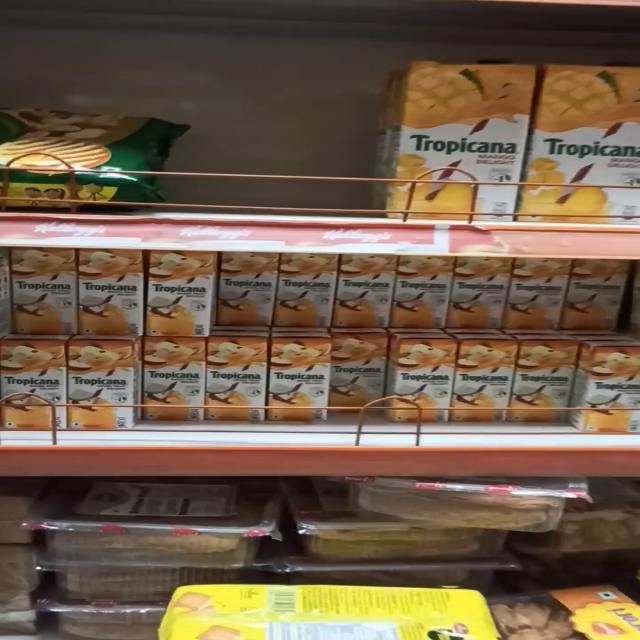Tropicana: (373, 52, 539, 219), (74, 248, 146, 341), (0, 248, 80, 331), (60, 349, 132, 430), (151, 252, 215, 337), (380, 345, 456, 416), (135, 345, 208, 418), (202, 340, 270, 411), (270, 342, 326, 426), (214, 255, 274, 333), (336, 256, 396, 334), (0, 349, 62, 423), (510, 258, 576, 326), (588, 351, 640, 437), (274, 256, 332, 333), (448, 255, 505, 331), (454, 347, 511, 420), (508, 344, 570, 411), (562, 260, 622, 329), (392, 262, 449, 332), (329, 338, 387, 405)
